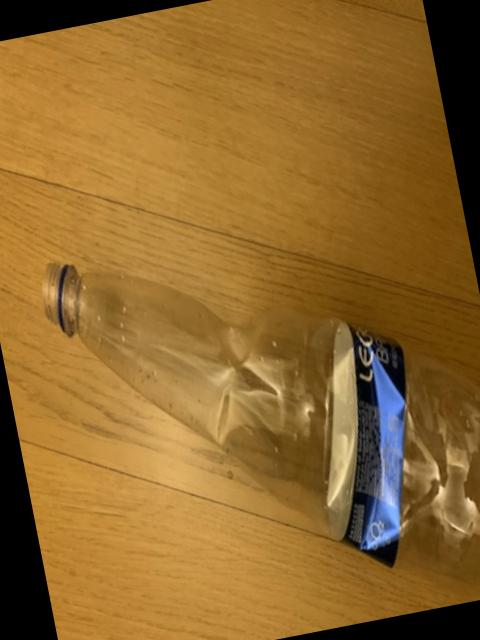plastic: (45, 266, 480, 583)
